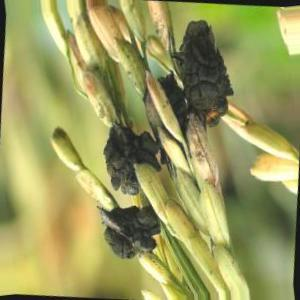Leaf_Scald: (184, 22, 233, 130), (105, 122, 151, 194), (101, 205, 160, 256)
